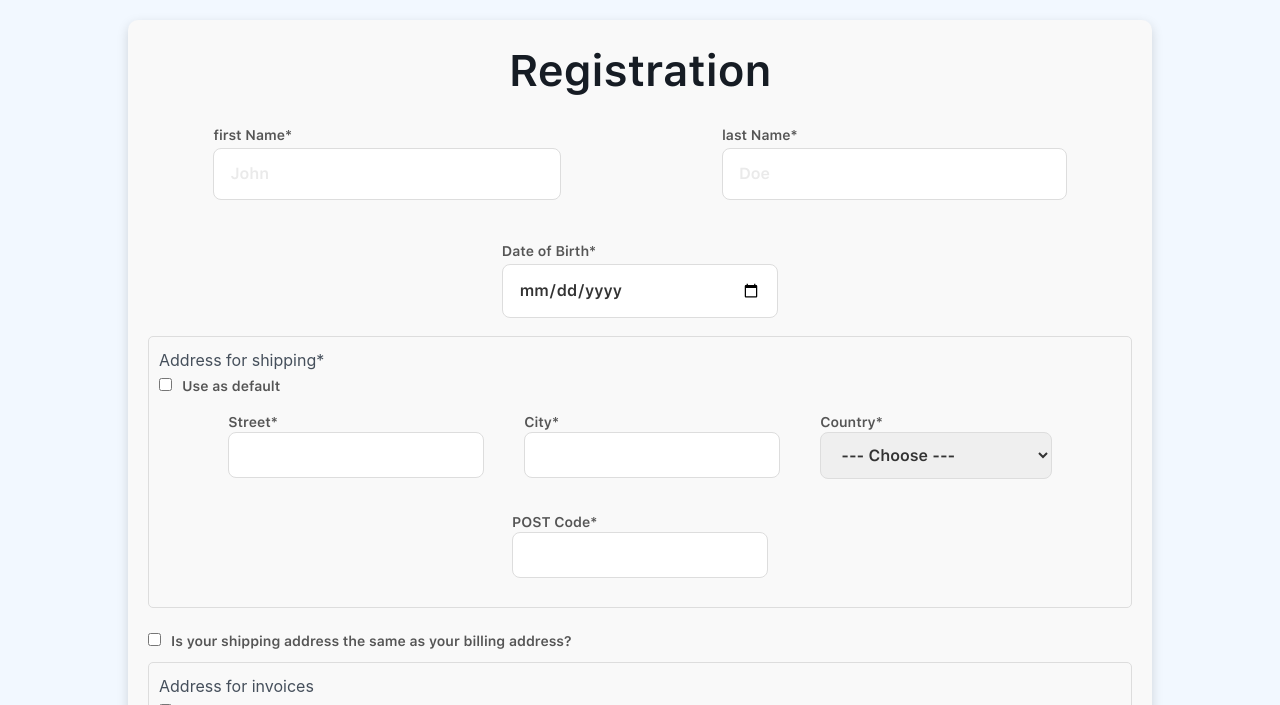
checking input wrong value on Registration page › checking input wrong value for last name on Registration page
Type "D5u" into the field with id "lastName" at point(894, 174), box [722,148,1066,200]
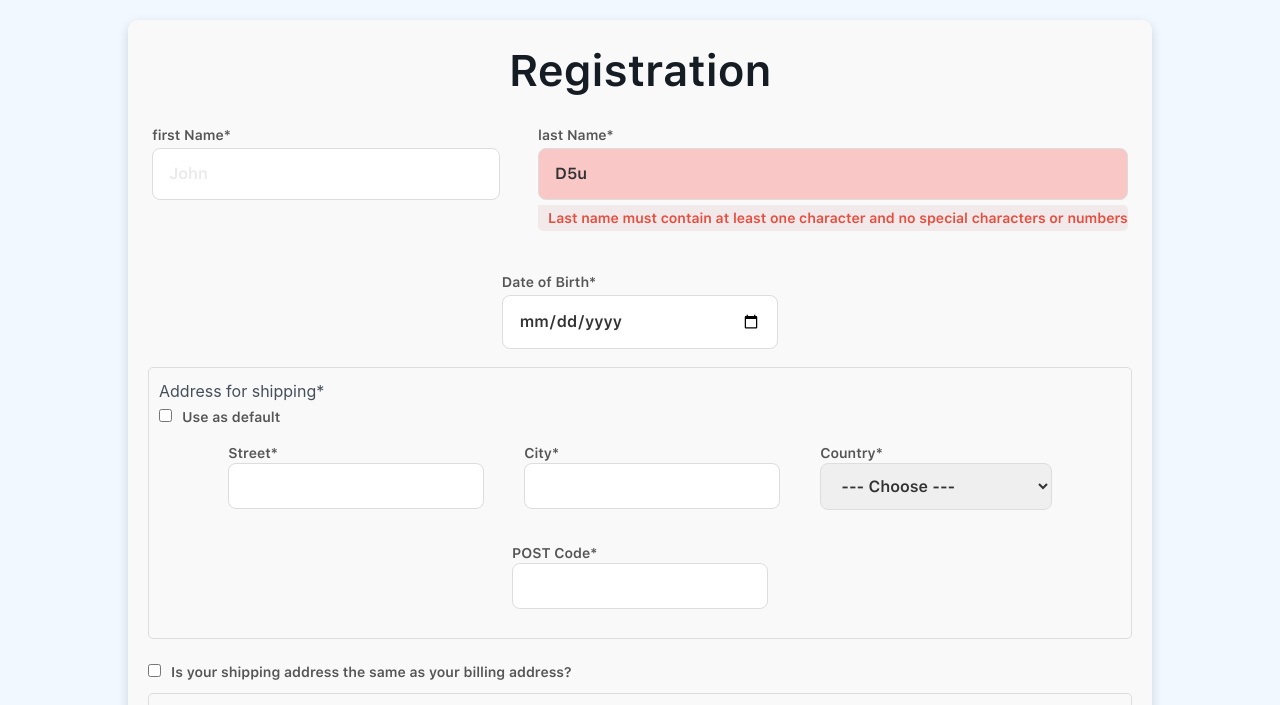
Now the text "Last name must contain at least one character and no special characters or numbers" is shown, box [548,210,1128,226]
